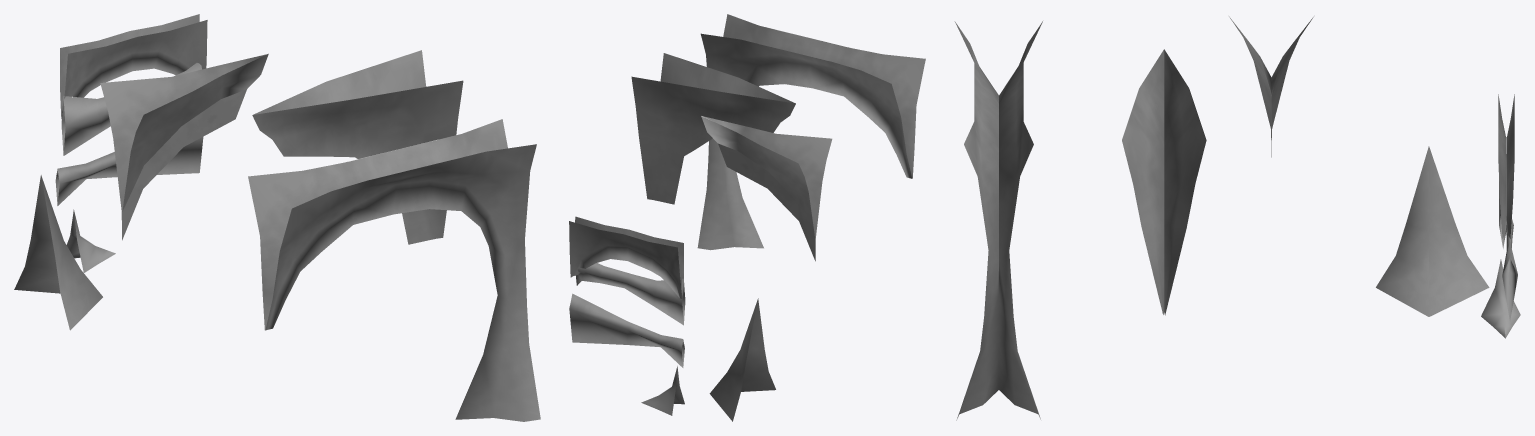
File: port_CobwebSet.FBX
3 views of the same model, side by side, from view 1: azimuth 30°, elevation 25°; view 2: azimuth 150°, elevation 25°; view 3: azimuth 270°, elevation 25° (orthographic). The views are drawn at different scales.
Visible parts, largest first — view 1: Port_WebArchBig, Port_WebRightCorner, Port_WebCornerLeft, Port_WebArchSmal, Port_WebCornerBottom, Port_Webstretch, Port_WebStretchBig, Port_WebCornerSmal; view 2: Port_WebArchBig, Port_WebRightCorner, Port_WebCornerLeft, Port_WebArchSmal, Port_Webstretch, Port_WebCornerBottom, Port_WebStretchBig, Port_WebCornerSmal; view 3: Port_WebArchBig, Port_WebRightCorner, Port_WebCornerBottom, Port_WebArchSmal, Port_WebCornerLeft, Port_WebCornerSmal, Port_Webstretch.
Boxes of the visible parts, x1,y1,x2,y2 form: Port_WebArchBig: (248, 119, 540, 421); Port_WebRightCorner: (252, 50, 463, 244); Port_WebCornerLeft: (100, 53, 268, 240); Port_WebArchSmal: (60, 14, 207, 119); Port_WebCornerBottom: (14, 175, 102, 330); Port_Webstretch: (55, 137, 203, 205); Port_WebStretchBig: (61, 63, 201, 155); Port_WebCornerSmal: (66, 209, 115, 272); Port_WebArchBig: (697, 14, 925, 250); Port_WebRightCorner: (631, 53, 795, 204); Port_WebCornerLeft: (701, 116, 832, 261); Port_WebArchSmal: (569, 216, 683, 298); Port_Webstretch: (569, 293, 684, 367); Port_WebCornerBottom: (709, 298, 775, 421); Port_WebStretchBig: (576, 263, 685, 325); Port_WebCornerSmal: (641, 366, 684, 415); Port_WebArchBig: (954, 21, 1042, 420); Port_WebRightCorner: (1122, 49, 1206, 315); Port_WebCornerBottom: (1376, 146, 1489, 316); Port_WebArchSmal: (1498, 94, 1514, 238); Port_WebCornerLeft: (1229, 16, 1313, 157); Port_WebCornerSmal: (1481, 259, 1520, 338); Port_Webstretch: (1502, 219, 1517, 321).
Size of the model in its own units: 430 by 425 by 762.
